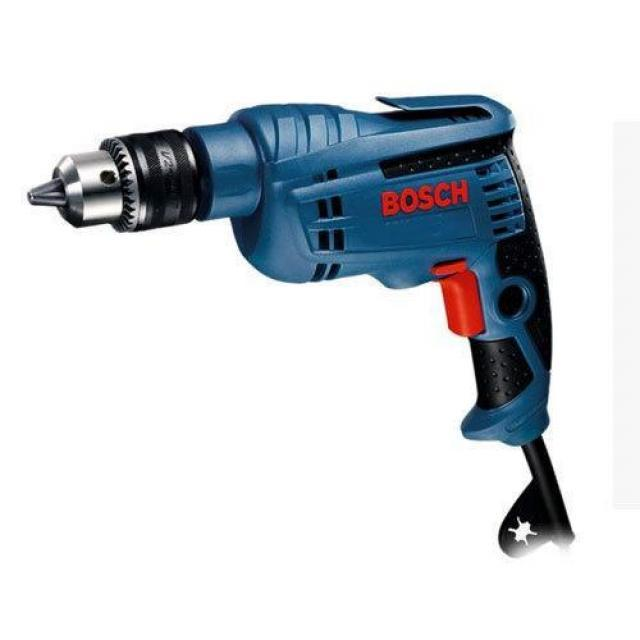drill: (24, 94, 576, 556)
